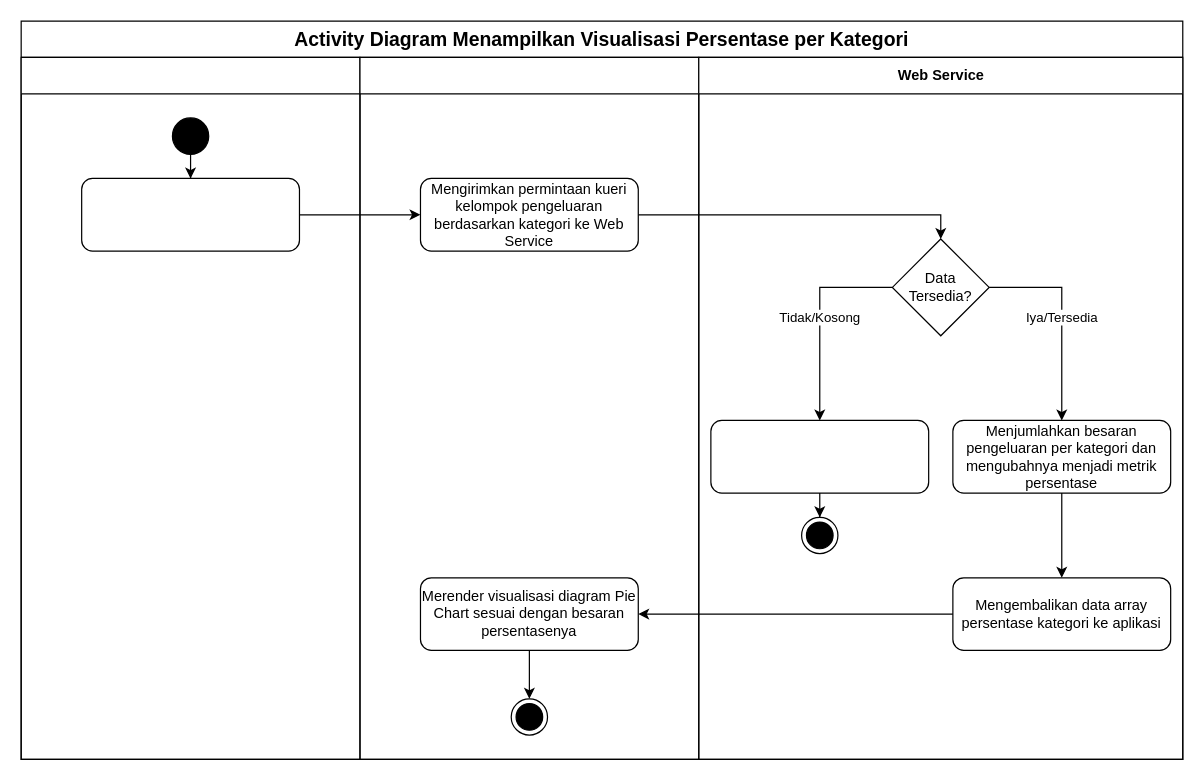
Image size: 1204x780. Some labels were removed from this diagram. The box of each missing label's shape, as (x1, y1, x2, y2) in pixels:
Data kategori kosong, Web Service membalas dengan status null: (710, 419, 929, 493)
Masyarakat: (20, 56, 360, 759)
Mengaktifkan filter analisis Kategori pada aplikasi: (80, 177, 299, 251)
Sistem: (359, 56, 699, 759)
